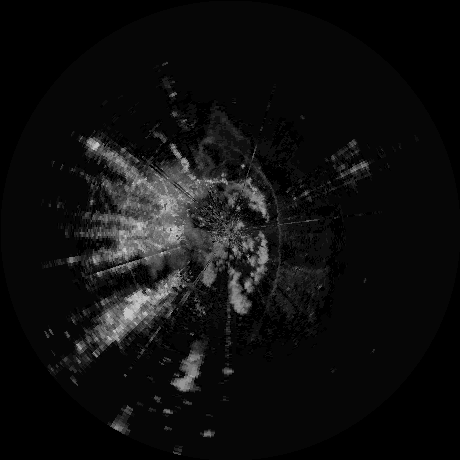frontgust: (250, 165, 284, 302)
